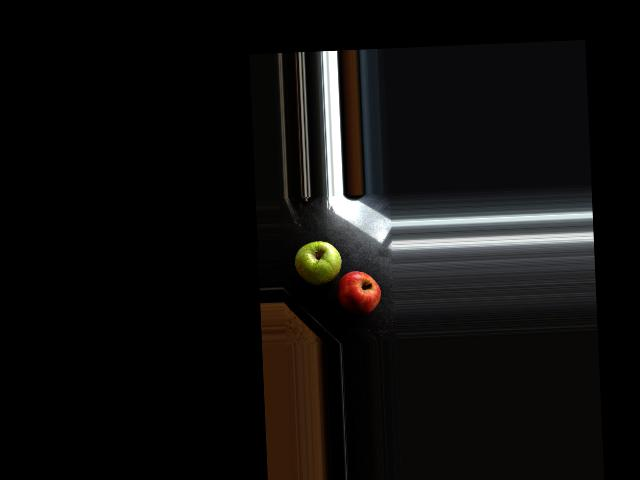apple: (338, 268, 383, 317)
